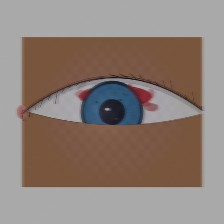hemorrhage_spot: (65, 57, 165, 137)
